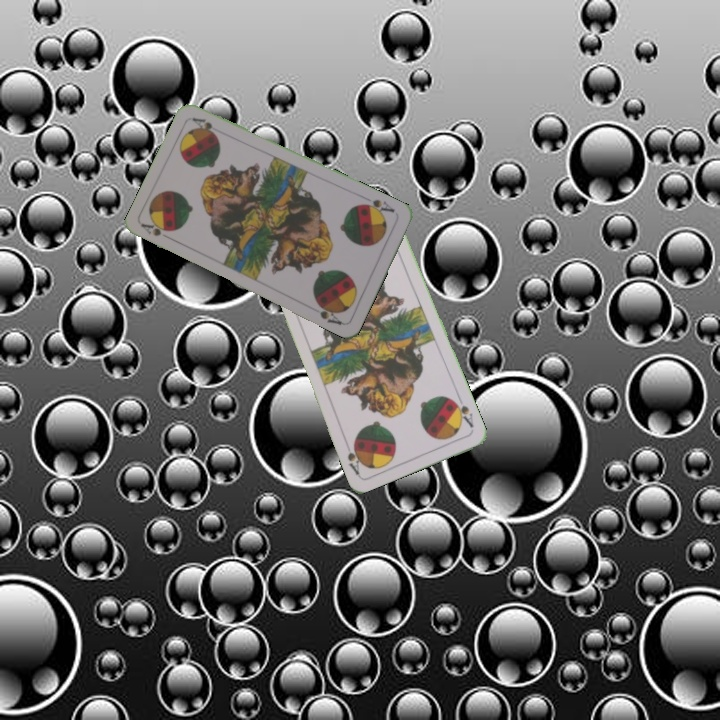SA: (449, 393, 476, 430), (358, 195, 397, 218), (138, 220, 172, 239)
